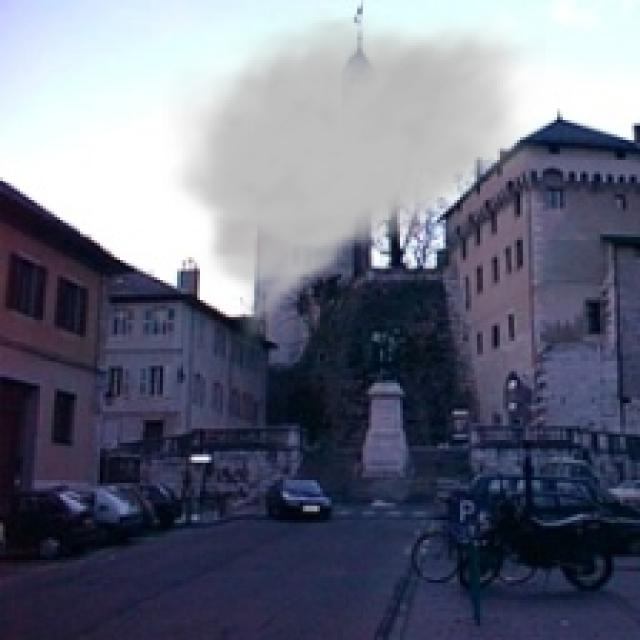smoke: (163, 9, 546, 354)
